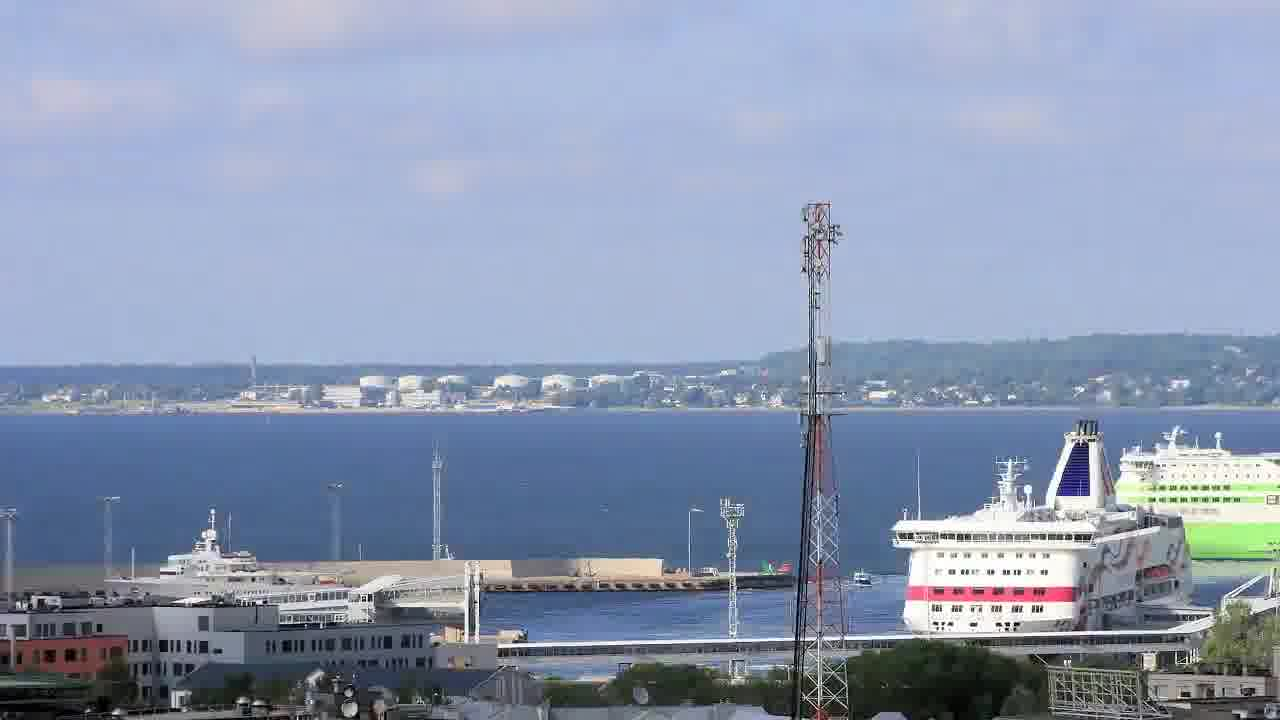type-0: (846, 563, 883, 599)
type-3: (868, 415, 1225, 638), (84, 511, 353, 609), (1137, 429, 1279, 590)
